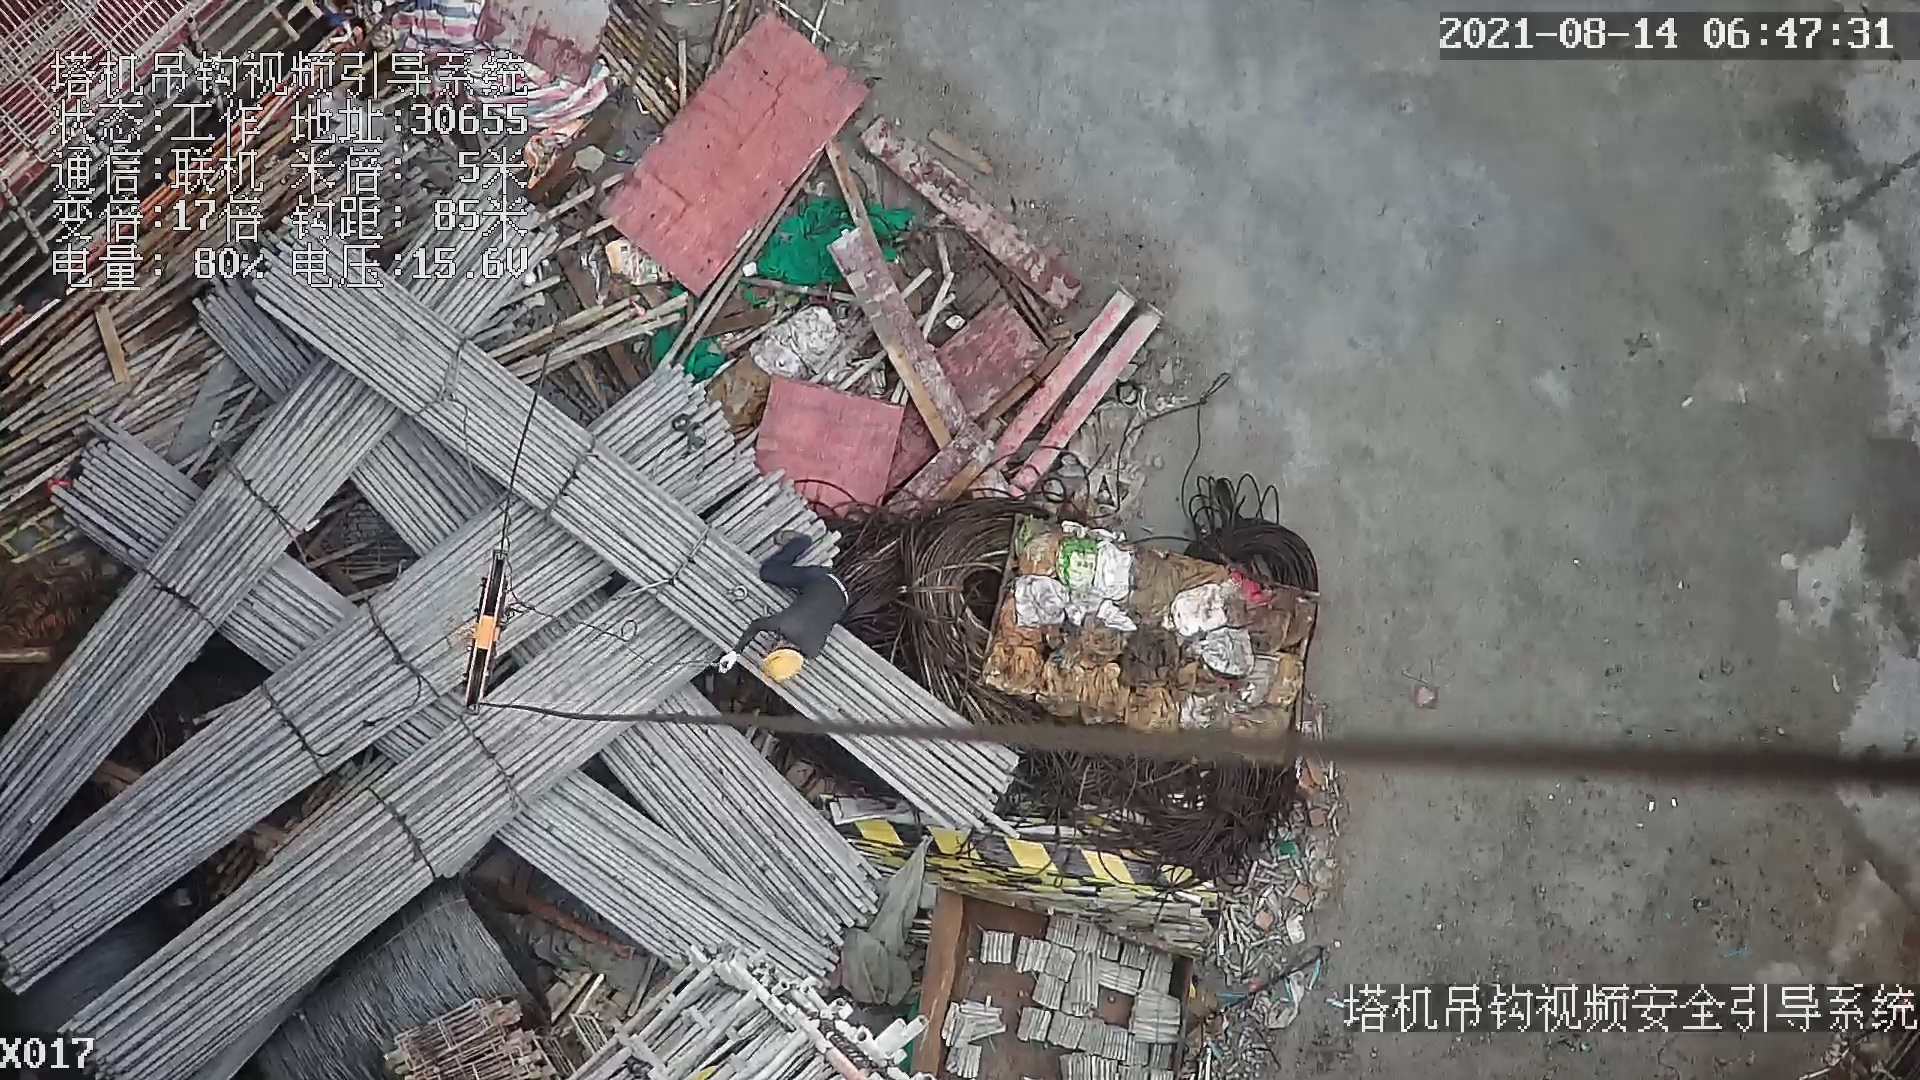board: (600, 11, 874, 308)
helmet: (762, 653, 806, 686)
hook: (454, 541, 509, 721)
person: (720, 521, 851, 691)
